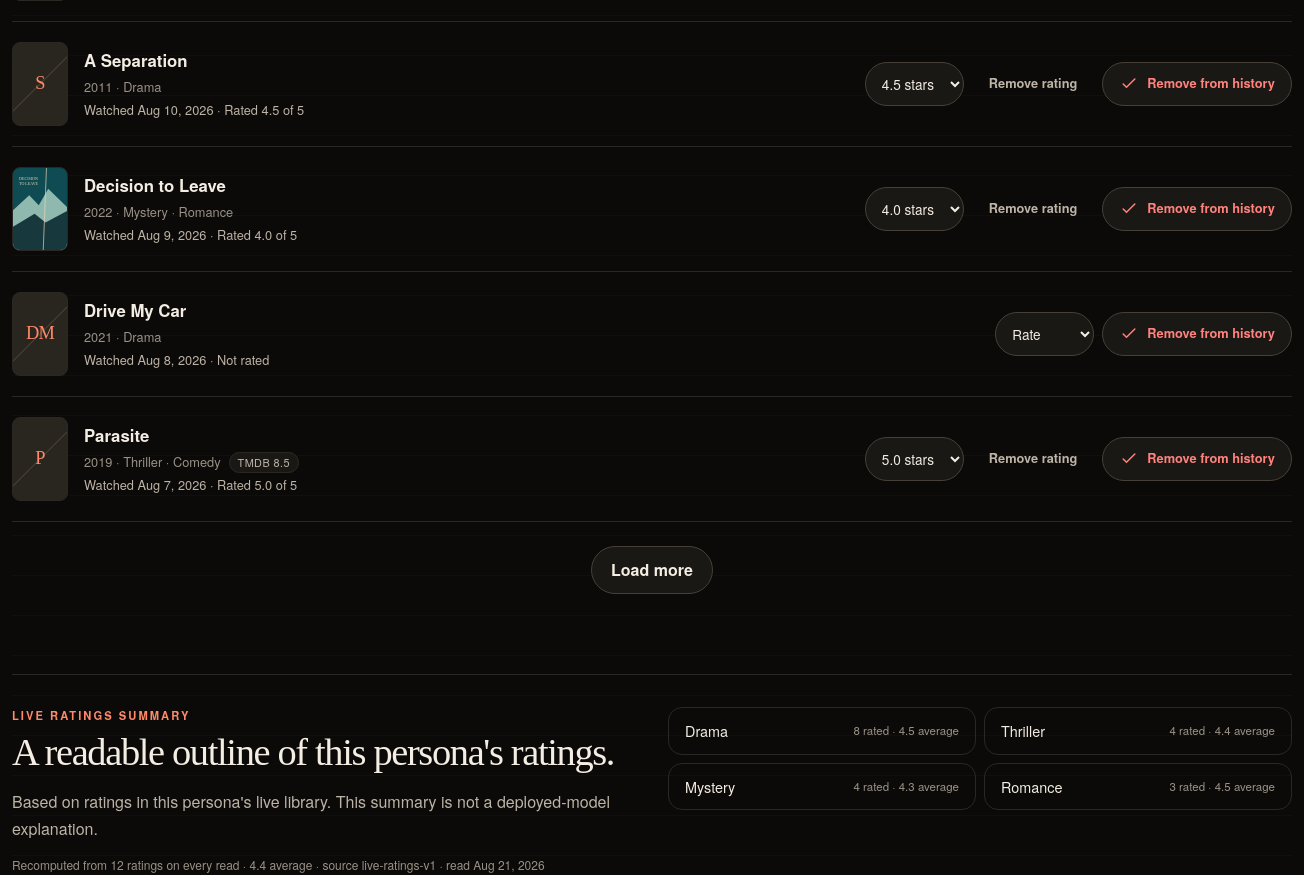
Test: collections load independently and own their URL state › appends the next cursor page without repeating a row
This screenshot has width=1304, height=875.
(page scrolled)
What coordinates should you click on to do the following:
click the button "Load more"
I would click on:
 (652, 570)
Its box is top-left (591, 546), bottom-right (713, 594).
(page scrolled)
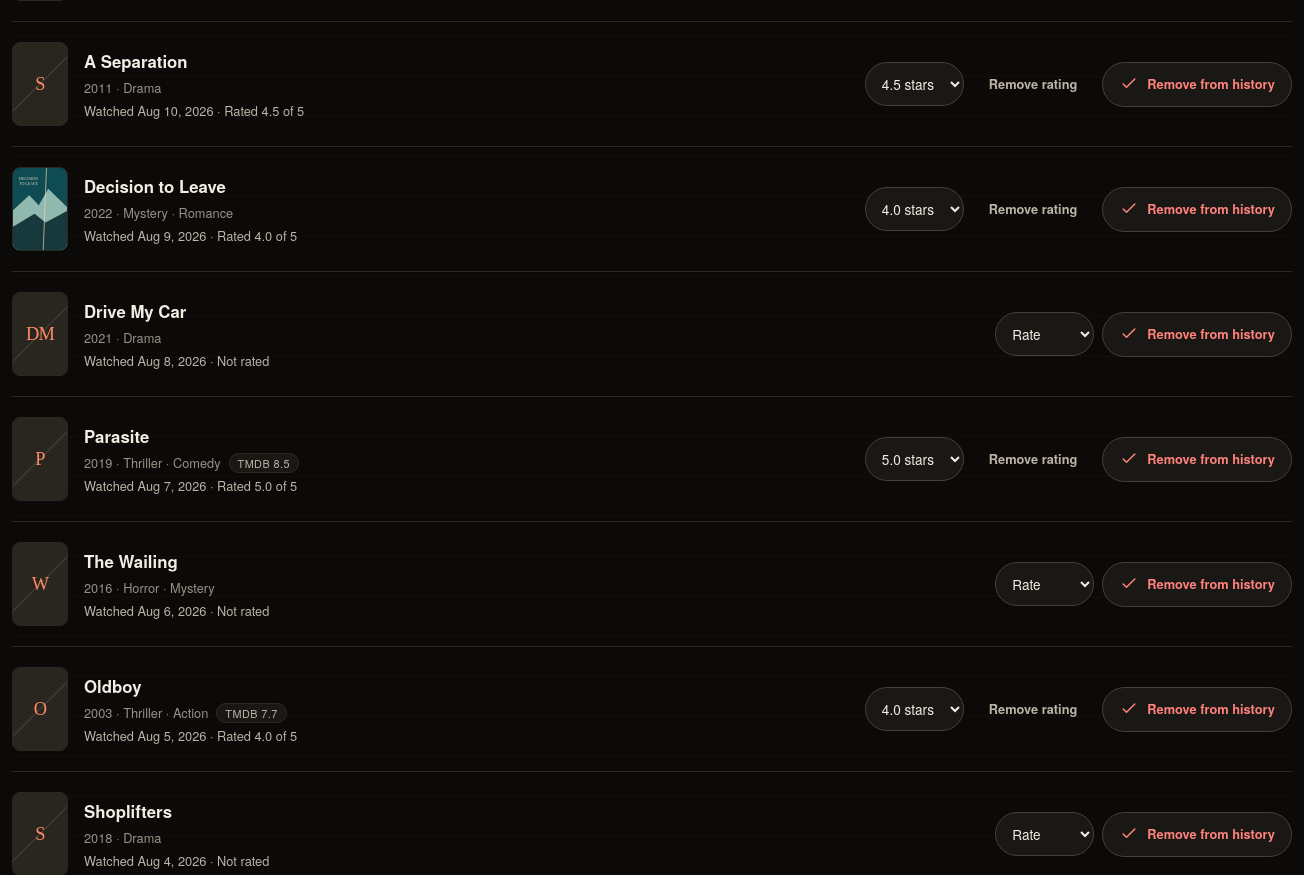
expect the button "Load more" is gone: met
